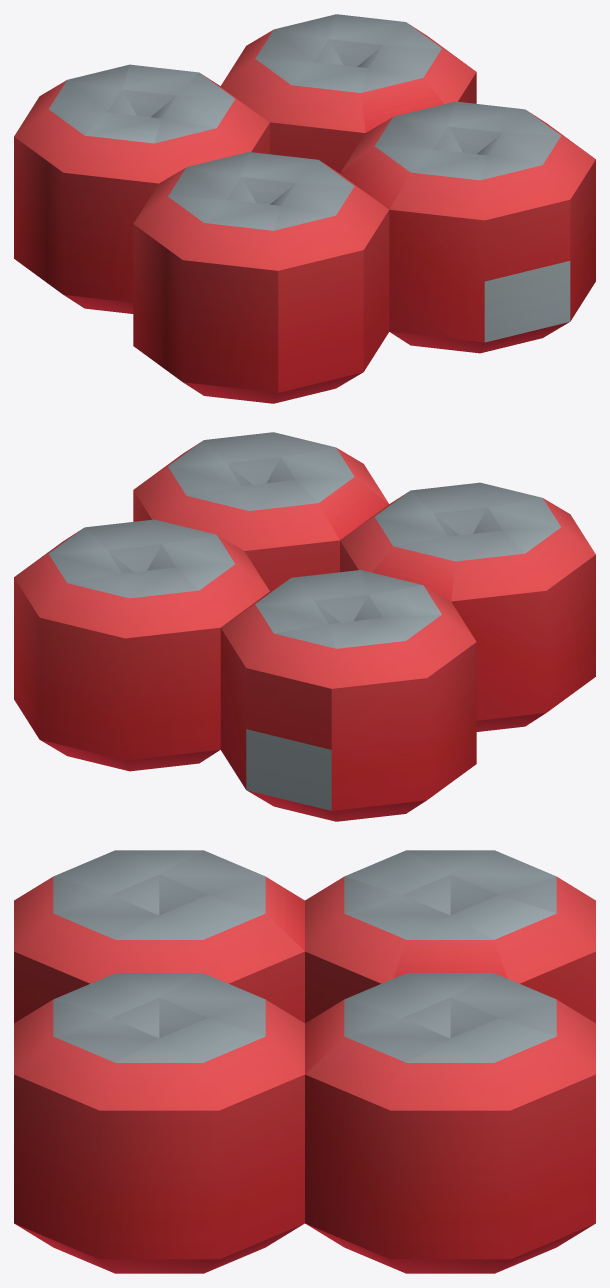
File: containers-d.glb
3 renders of one model, top to bottom at view 1: azimuth 30°, elevation 25°; view 2: azimuth 150°, elevation 25°; view 3: azimuth 270°, elevation 25°, orthographic. The views are drawn at different scales.
Visible parts, largest first — view 1: containers_D; view 2: containers_D; view 3: containers_D.
Part boxes in pixels (x1=…): containers_D: x1=14, y1=14, x2=595, y2=403; containers_D: x1=14, y1=432, x2=595, y2=821; containers_D: x1=14, y1=850, x2=595, y2=1273.
Bounding box in the file's own units: 0.5 × 0.2 × 0.5.
Materials: 1 (1 with a texture image).
